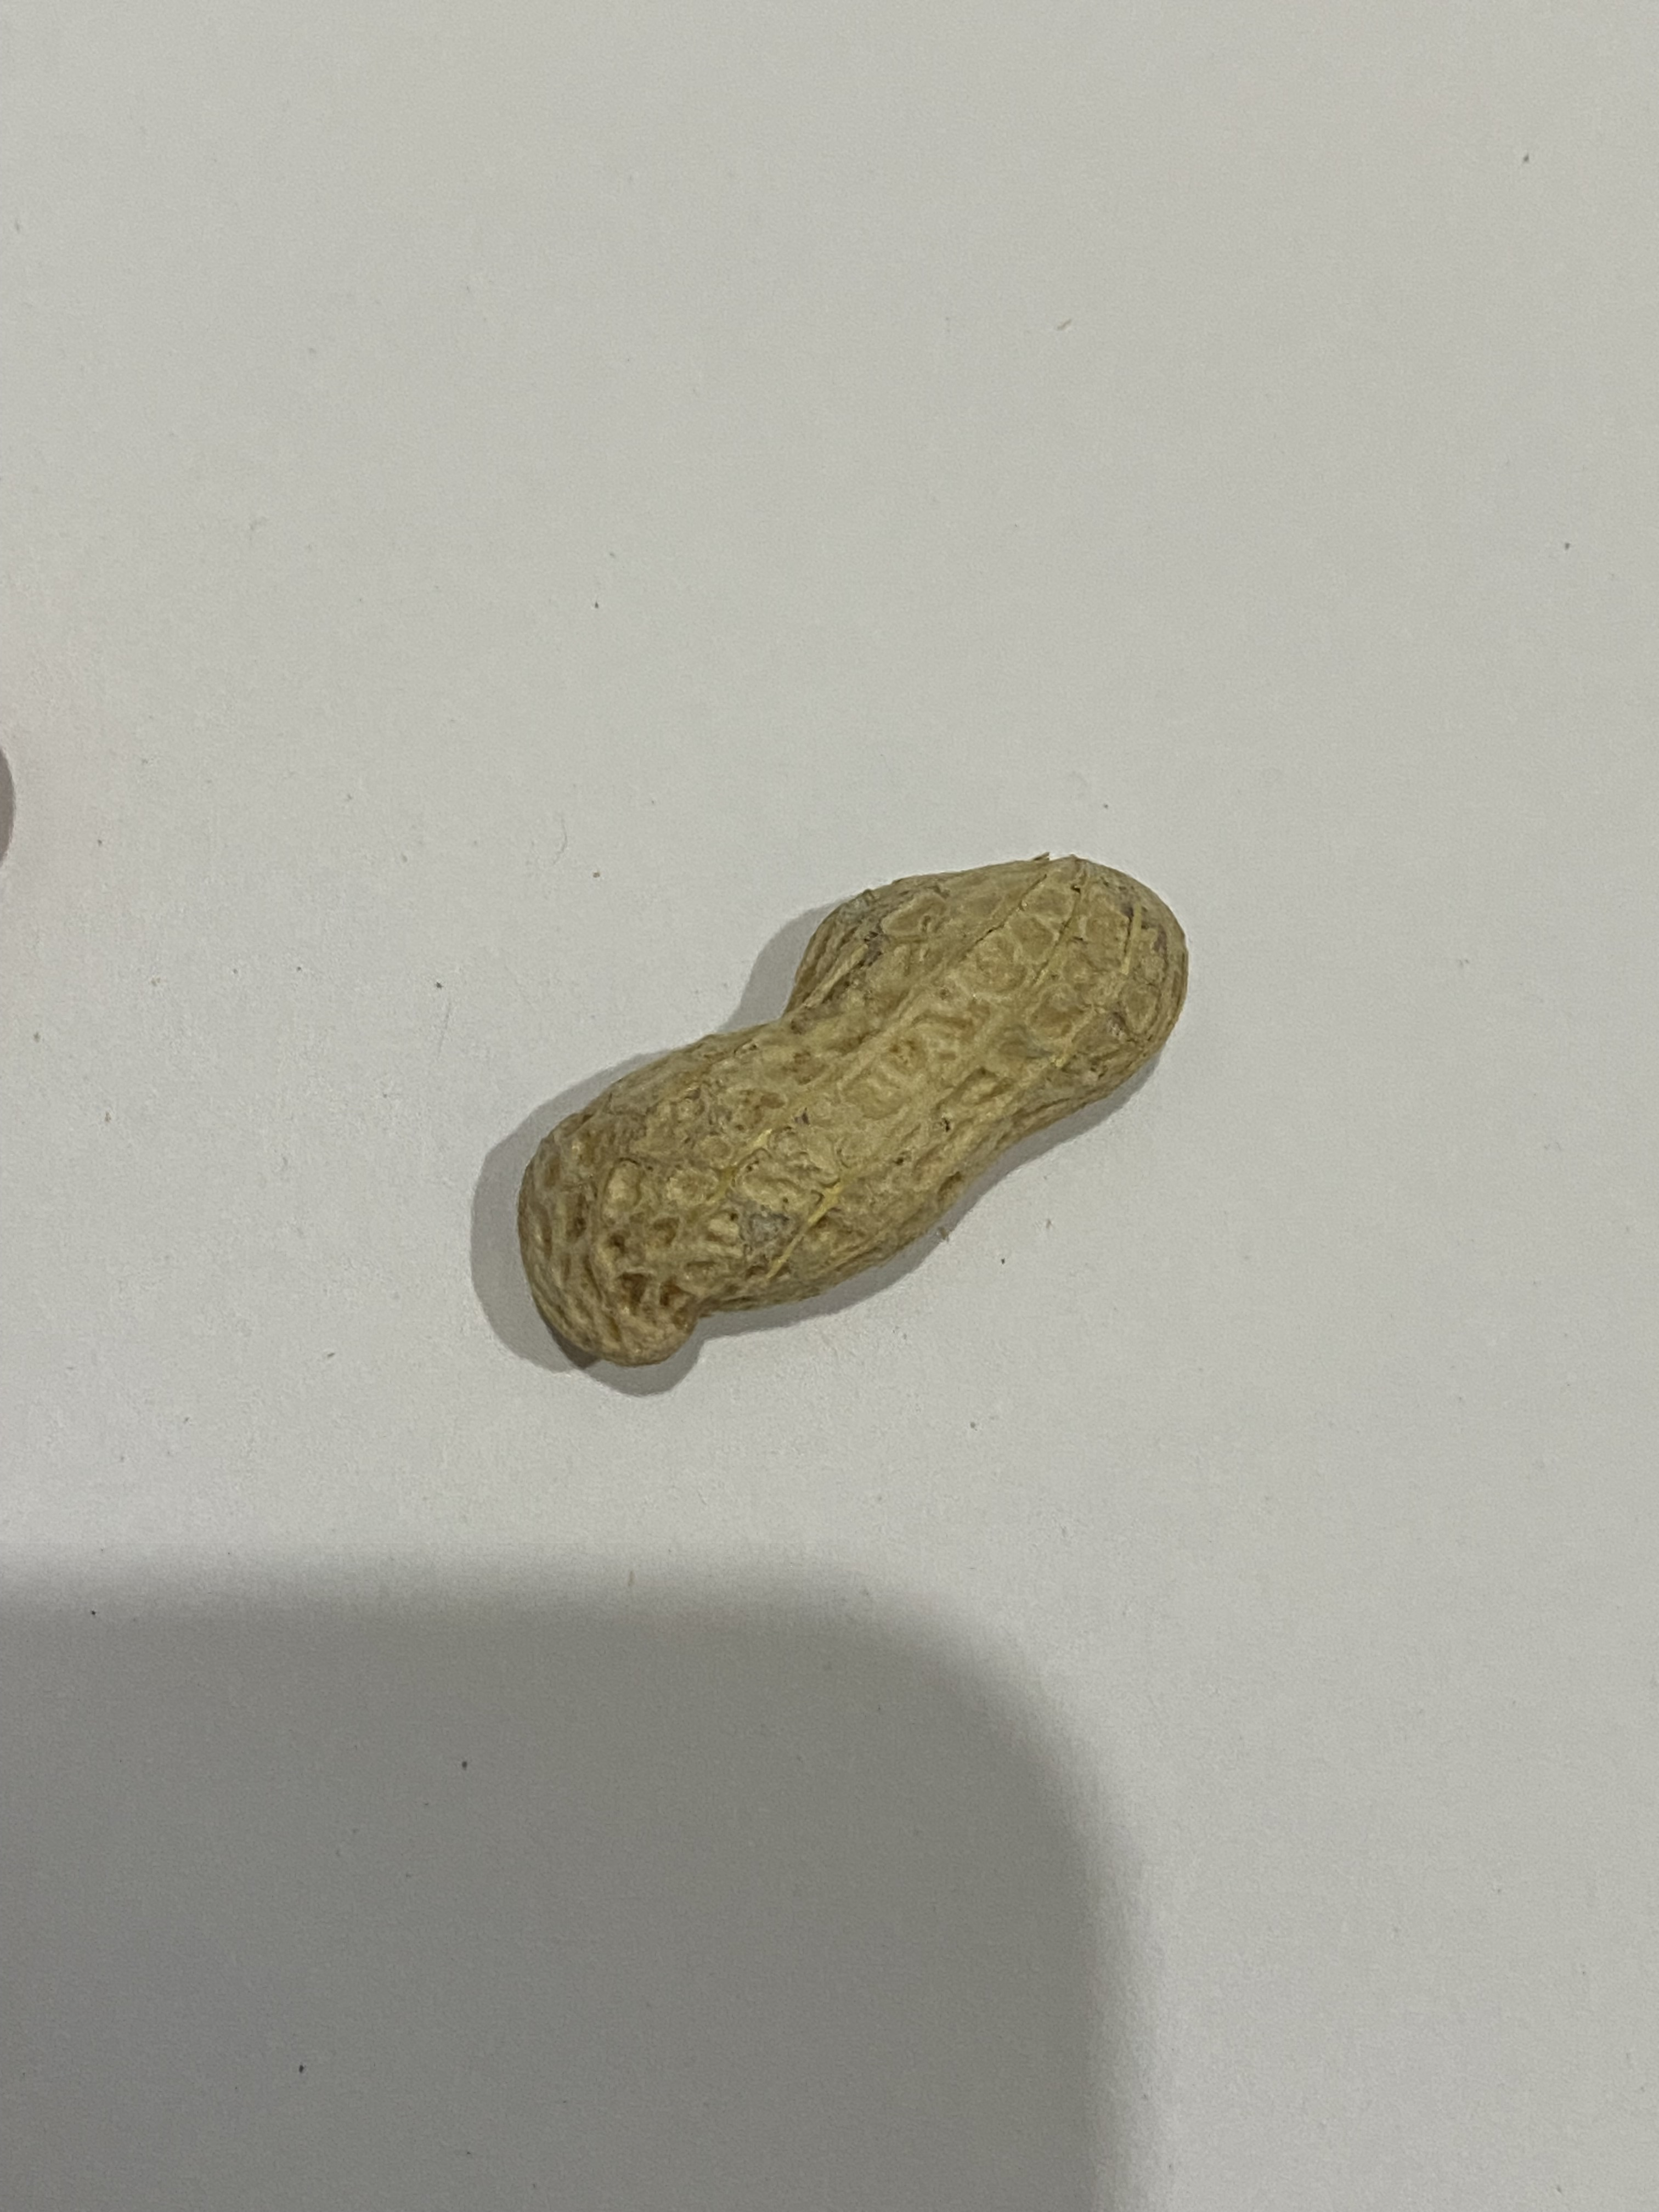kacang2: (495, 845, 1204, 1371)
